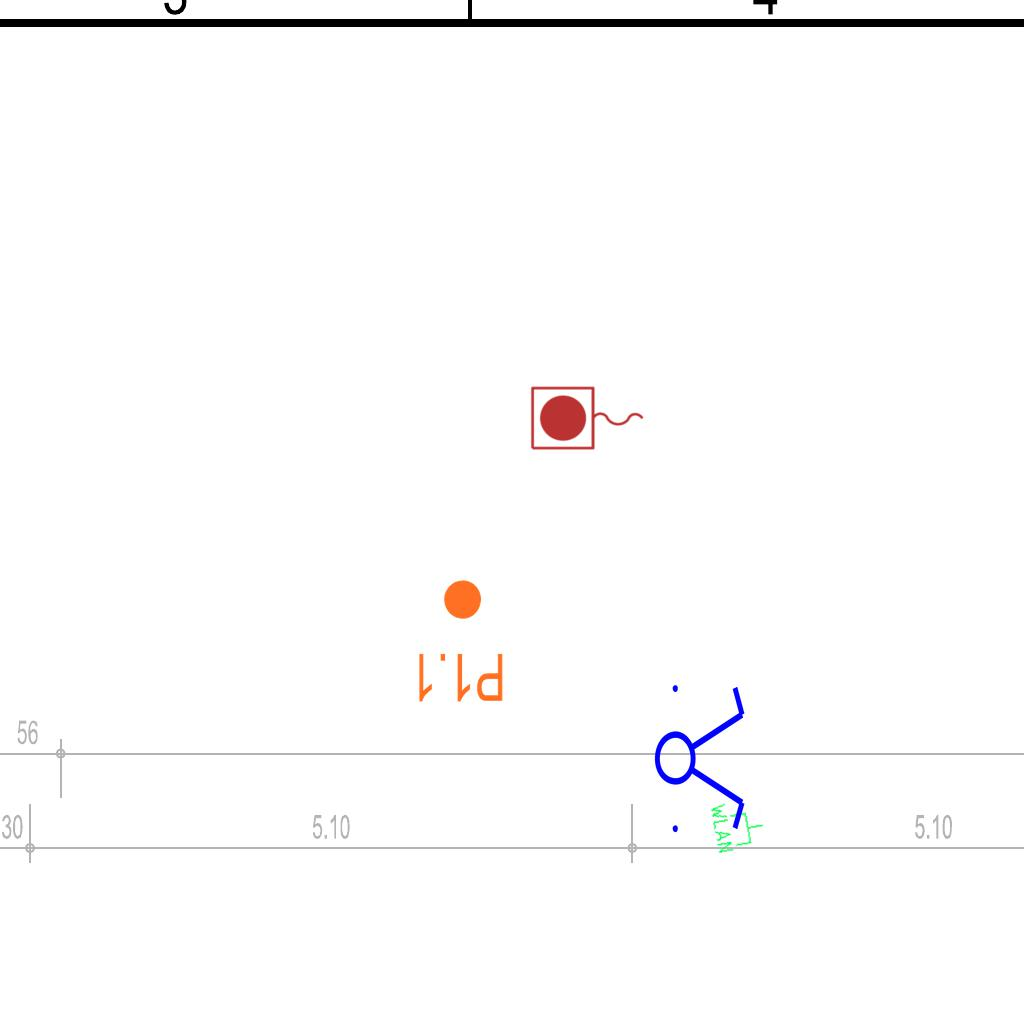Downlight_LED_Einbauleuchten_Flur: (413, 577, 506, 705)
Serienschalter: (653, 673, 749, 841)
WLAN: (707, 794, 769, 856)
Zugtaster: (527, 383, 649, 455)
